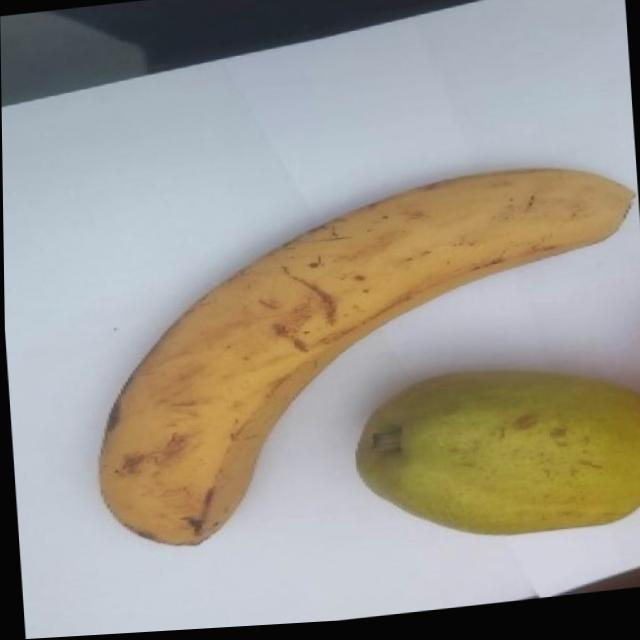Banana: (80, 161, 640, 557)
